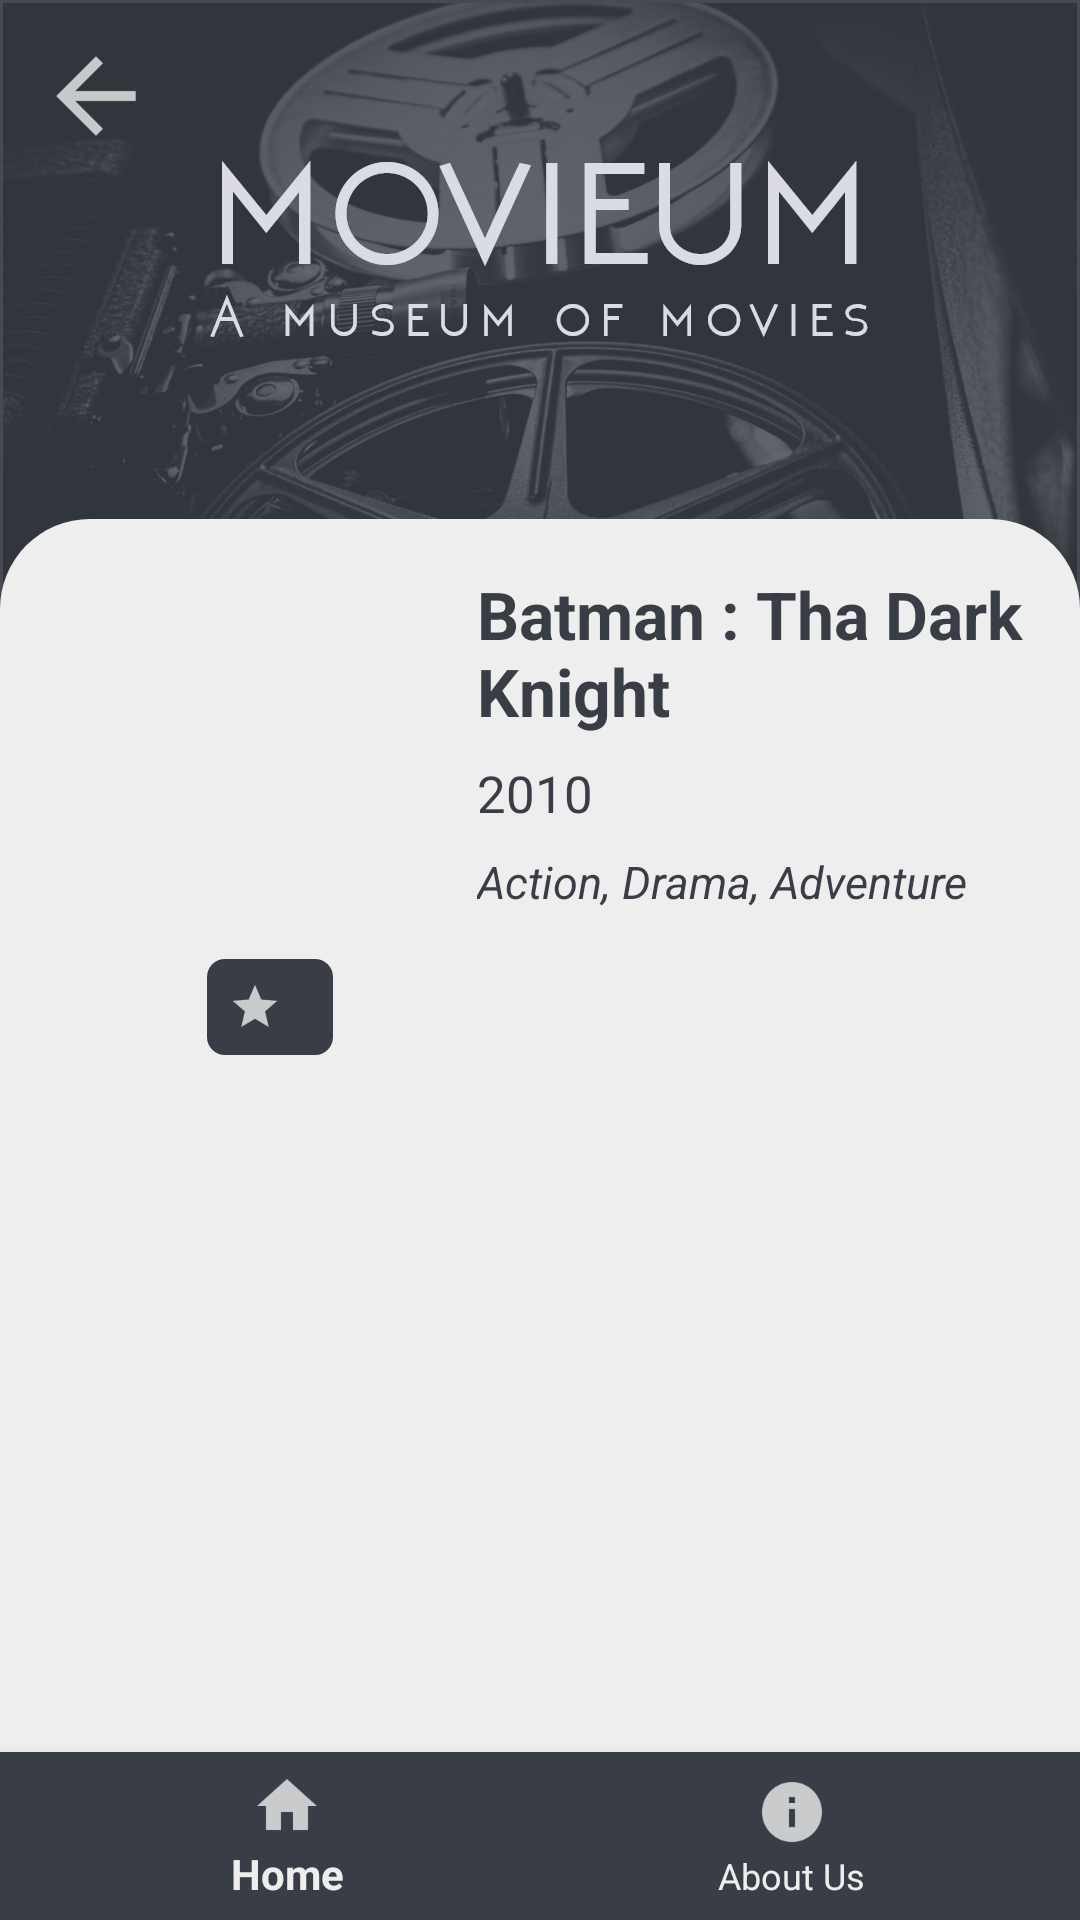

Locate icon controls on the screen. Image size 1080x1920, boxes as (x1, y1, x2, y2).
back: (56, 56, 136, 136)
